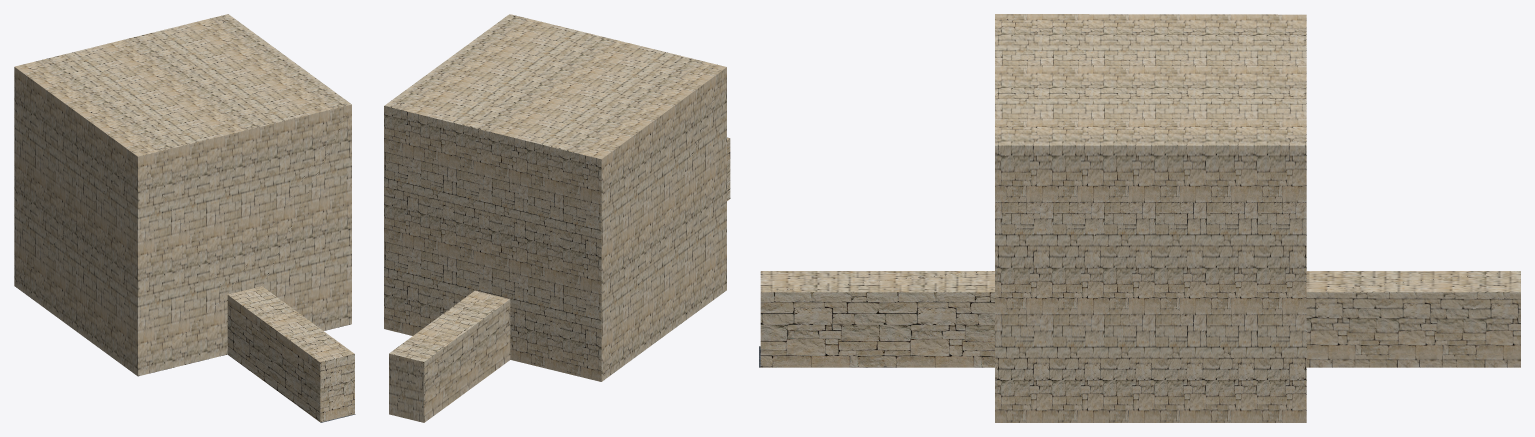
Rendered from LobbyBuilding.obj.
3 views of the same model, side by side, from view 1: azimuth 30°, elevation 25°; view 2: azimuth 150°, elevation 25°; view 3: azimuth 270°, elevation 25° (orthographic). The views are drawn at different scales.
Visible parts, largest first — view 1: Lobby_Circle.023; view 2: Lobby_Circle.023; view 3: Lobby_Circle.023.
Boxes of the visible parts, bbox=[...] form: Lobby_Circle.023: bbox=[14, 14, 355, 422]; Lobby_Circle.023: bbox=[384, 14, 730, 422]; Lobby_Circle.023: bbox=[759, 14, 1520, 422].
Bounding box in the file's own units: 52.45 × 51.44 × 128.
Materials: 3 (3 with a texture image).
